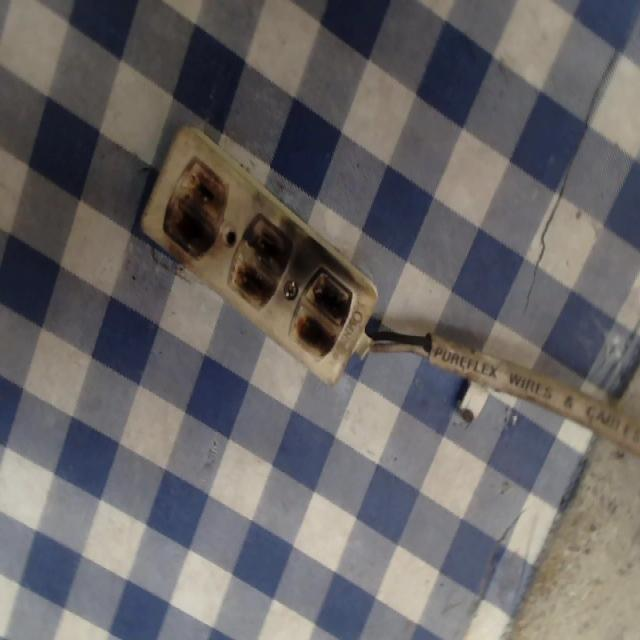-: (147, 157, 234, 268), (287, 264, 366, 373), (230, 209, 296, 315)
